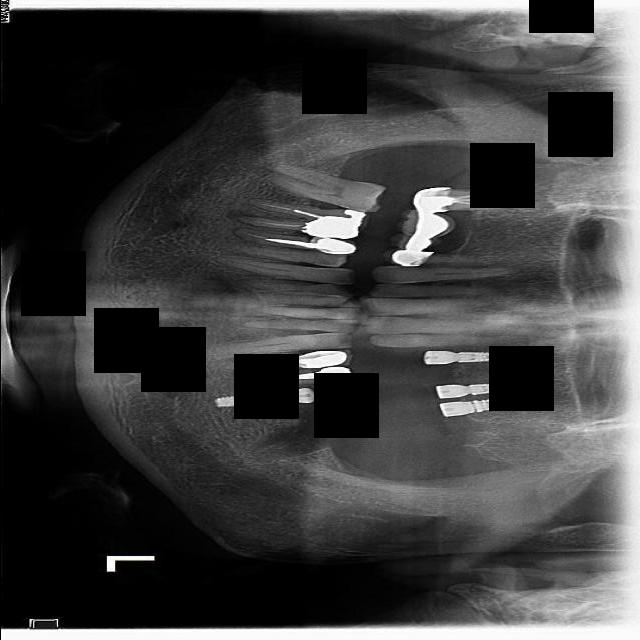55: (473, 393, 545, 413), (214, 391, 291, 408), (460, 349, 524, 363), (470, 381, 536, 394)
71: (266, 232, 350, 252), (282, 365, 350, 385), (292, 209, 323, 220)
74: (453, 190, 523, 208), (251, 221, 300, 228), (454, 198, 532, 202), (260, 204, 292, 211), (247, 233, 265, 239)
NucleOSS Implant: (300, 207, 366, 243)
Zimmer Implant: (397, 209, 452, 240), (293, 348, 354, 370), (385, 233, 441, 253), (380, 248, 433, 267), (311, 236, 358, 256), (412, 187, 449, 211)
